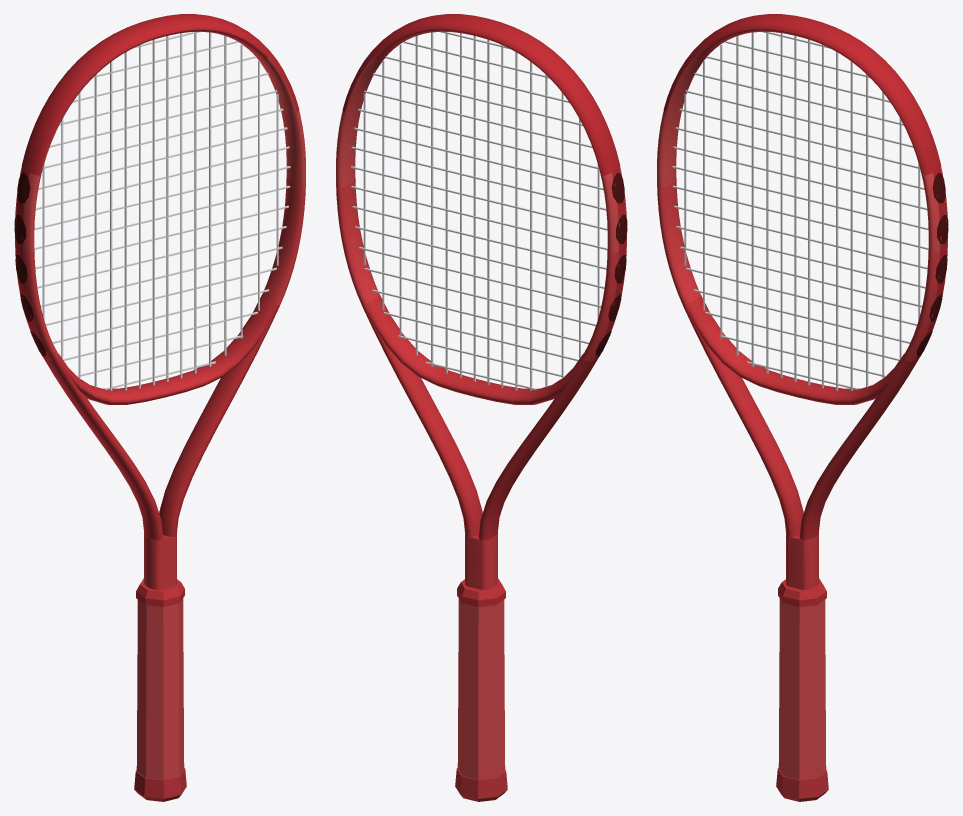
File: prince-ripstick-98-2025.glb
The picture shows the model from 3 angles, left to right: view 1: azimuth 30°, elevation 25°; view 2: azimuth 150°, elevation 25°; view 3: azimuth 330°, elevation 25°; orthographic projection.
Visible parts, largest first — view 1: frame, strings_mains, strings_crosses, grip, bumper, grommets, butt_cap, collar; view 2: frame, strings_mains, strings_crosses, grip, bumper, grommets, butt_cap, collar; view 3: frame, strings_mains, strings_crosses, grip, bumper, grommets, butt_cap, collar.
Boxes of the visible parts, bbox=[...] form: frame: bbox=[15, 29, 305, 590]; strings_mains: bbox=[42, 32, 278, 390]; strings_crosses: bbox=[34, 31, 290, 390]; grip: bbox=[136, 598, 184, 779]; bumper: bbox=[21, 14, 299, 175]; grommets: bbox=[14, 167, 47, 359]; butt_cap: bbox=[134, 768, 186, 801]; collar: bbox=[136, 578, 184, 606]; frame: bbox=[336, 29, 626, 590]; strings_mains: bbox=[363, 32, 599, 390]; strings_crosses: bbox=[351, 31, 607, 390]; grip: bbox=[457, 598, 505, 779]; bumper: bbox=[342, 14, 620, 175]; grommets: bbox=[594, 167, 627, 359]; butt_cap: bbox=[455, 768, 507, 801]; collar: bbox=[457, 578, 505, 606]; frame: bbox=[657, 29, 947, 590]; strings_mains: bbox=[684, 32, 920, 390]; strings_crosses: bbox=[672, 31, 928, 390]; grip: bbox=[778, 598, 826, 779]; bumper: bbox=[663, 14, 941, 175]; grommets: bbox=[915, 167, 948, 359]; butt_cap: bbox=[776, 768, 828, 801]; collar: bbox=[778, 578, 826, 606].
Bounding box in the file's own units: 0.2647 × 0.6861 × 0.0396.
